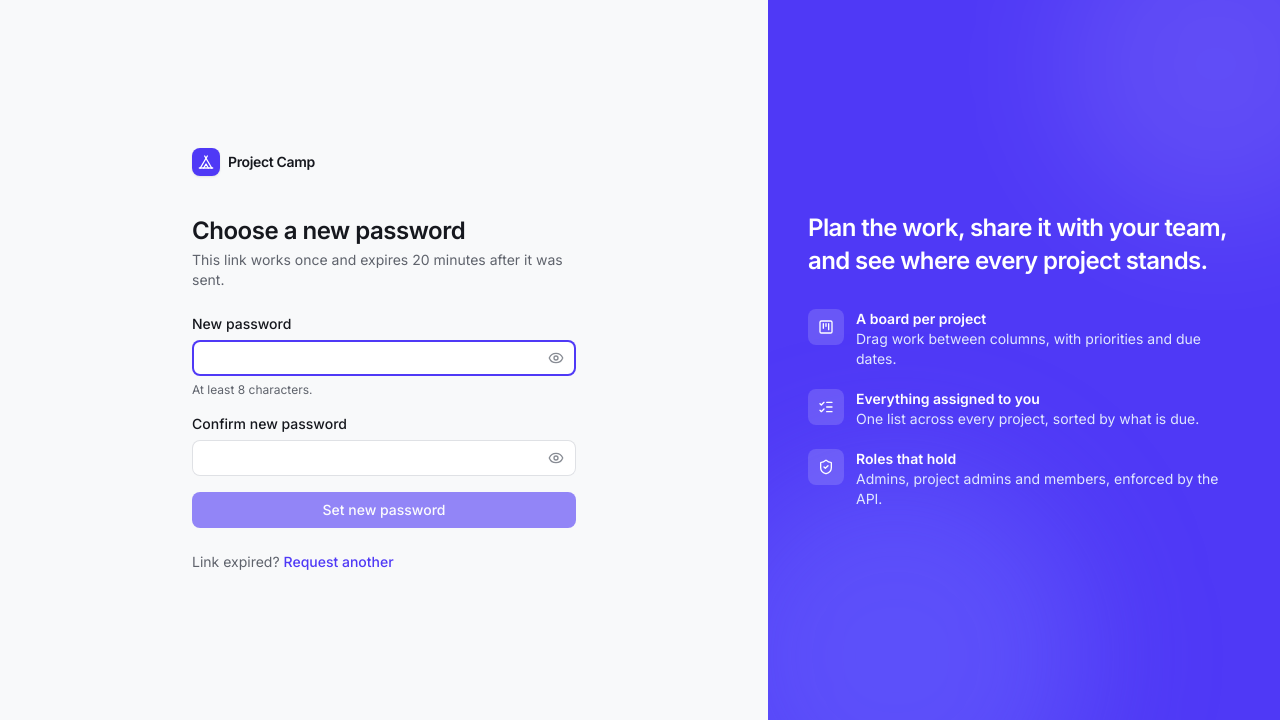
it: ResetPassword › explains an expired link and offers a new one
Type "N3wPassw0rd!" into the password field labelled "New password" at (384, 358), box [192, 340, 576, 376]
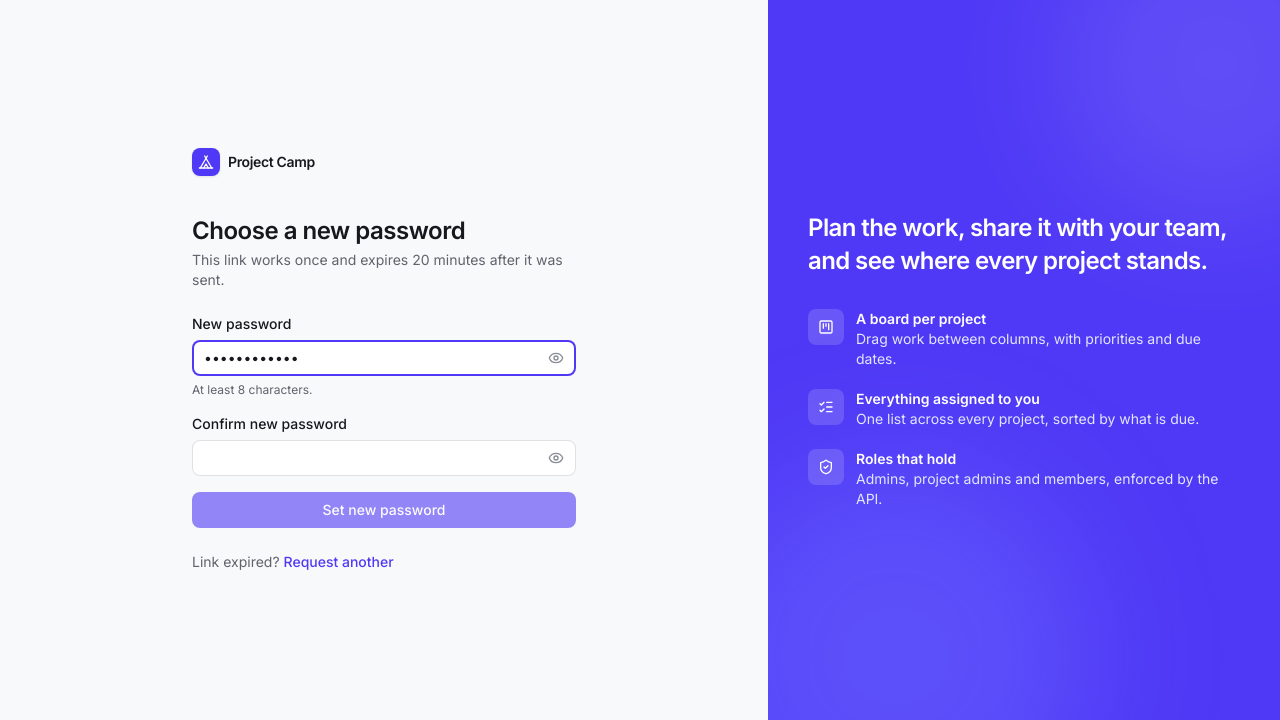
Type "N3wPassw0rd!" into the password field labelled "Confirm new password" at (384, 458), box [192, 440, 576, 476]
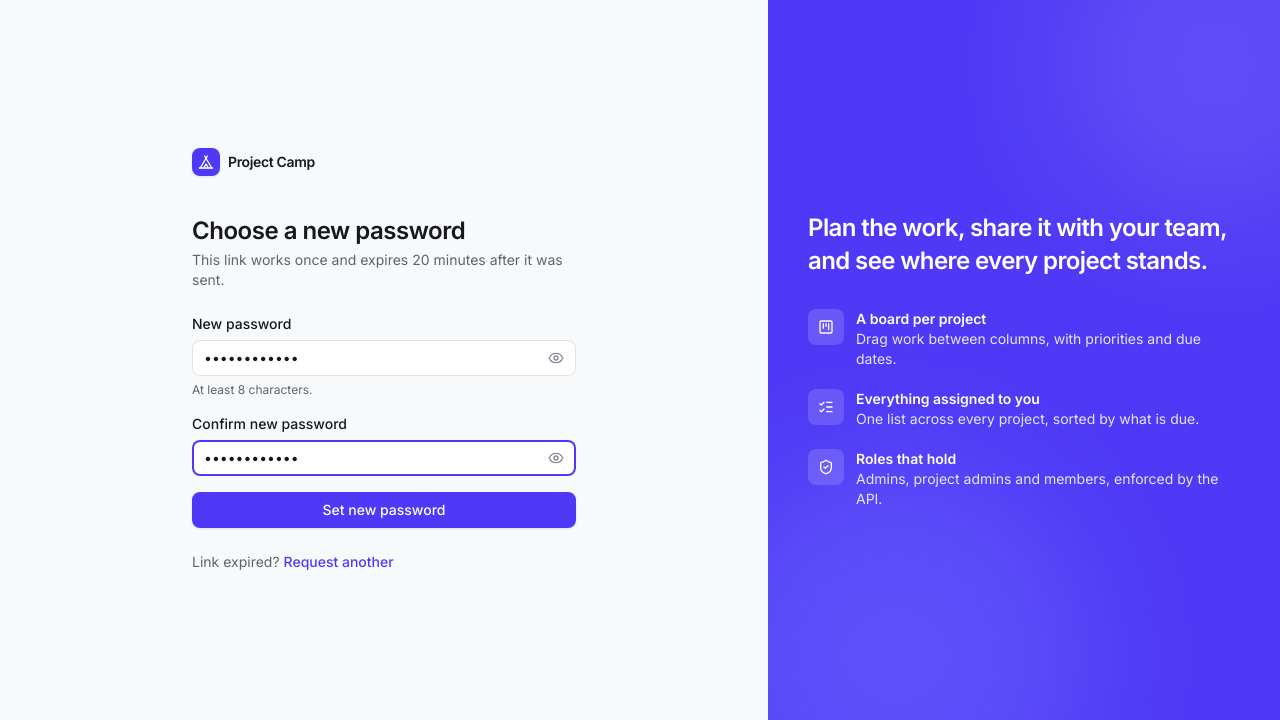
Click the button "Set new password" at (384, 510), box [192, 492, 576, 528]
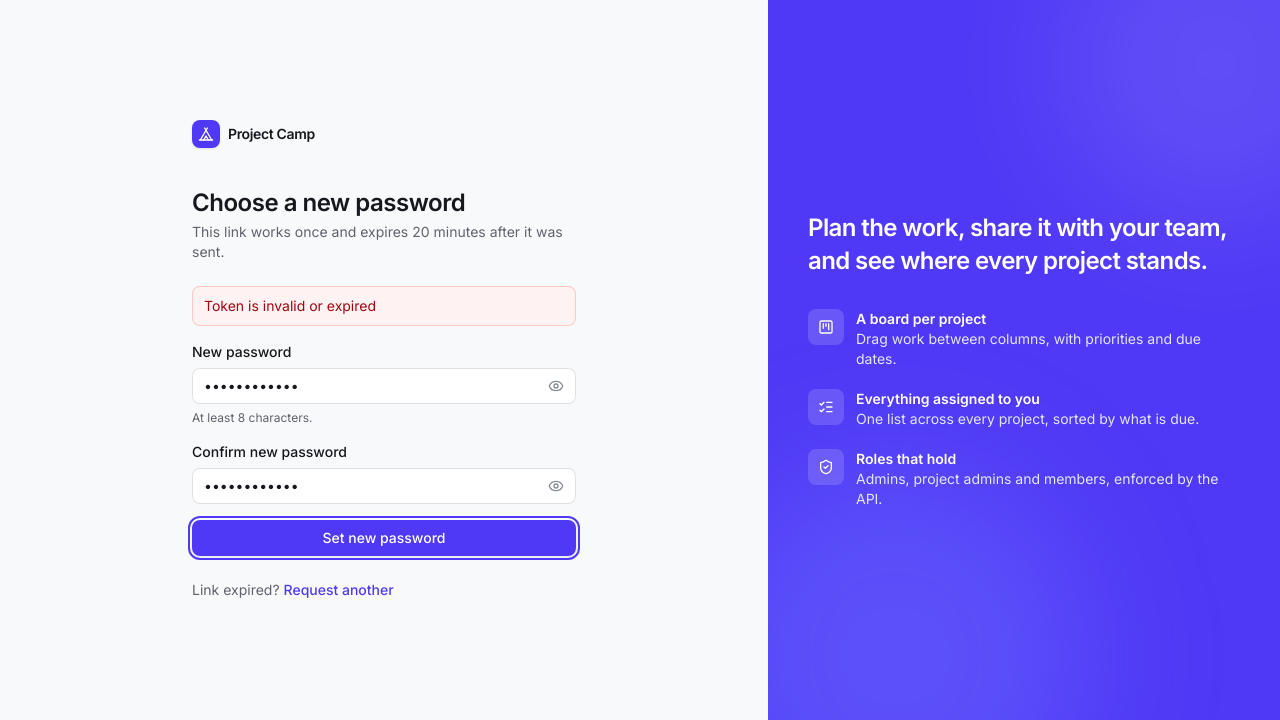
Now the message reads "Token is invalid or expired", box [204, 297, 376, 314]
